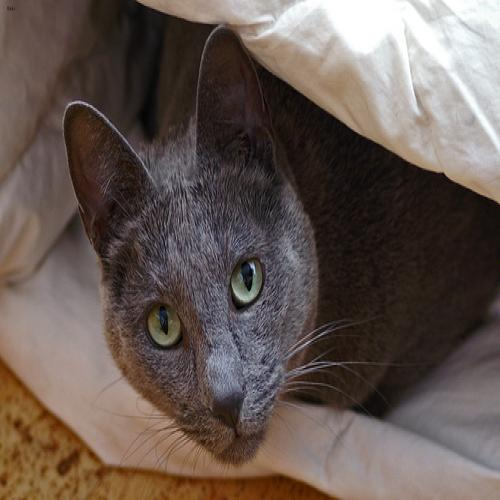rblue: (52, 22, 334, 477)
